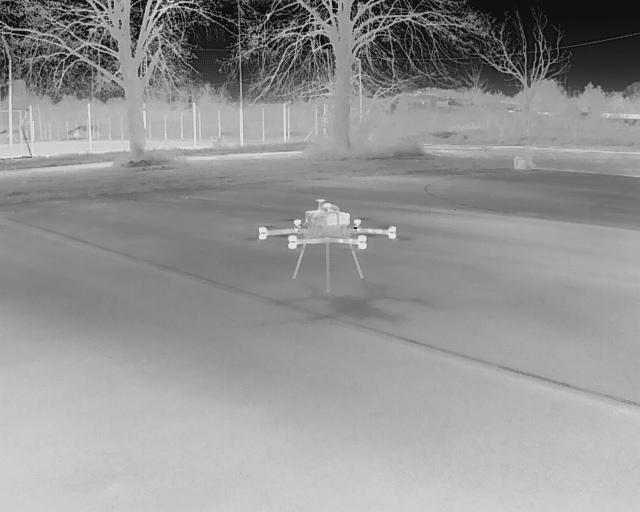drone: (232, 196, 414, 304)
